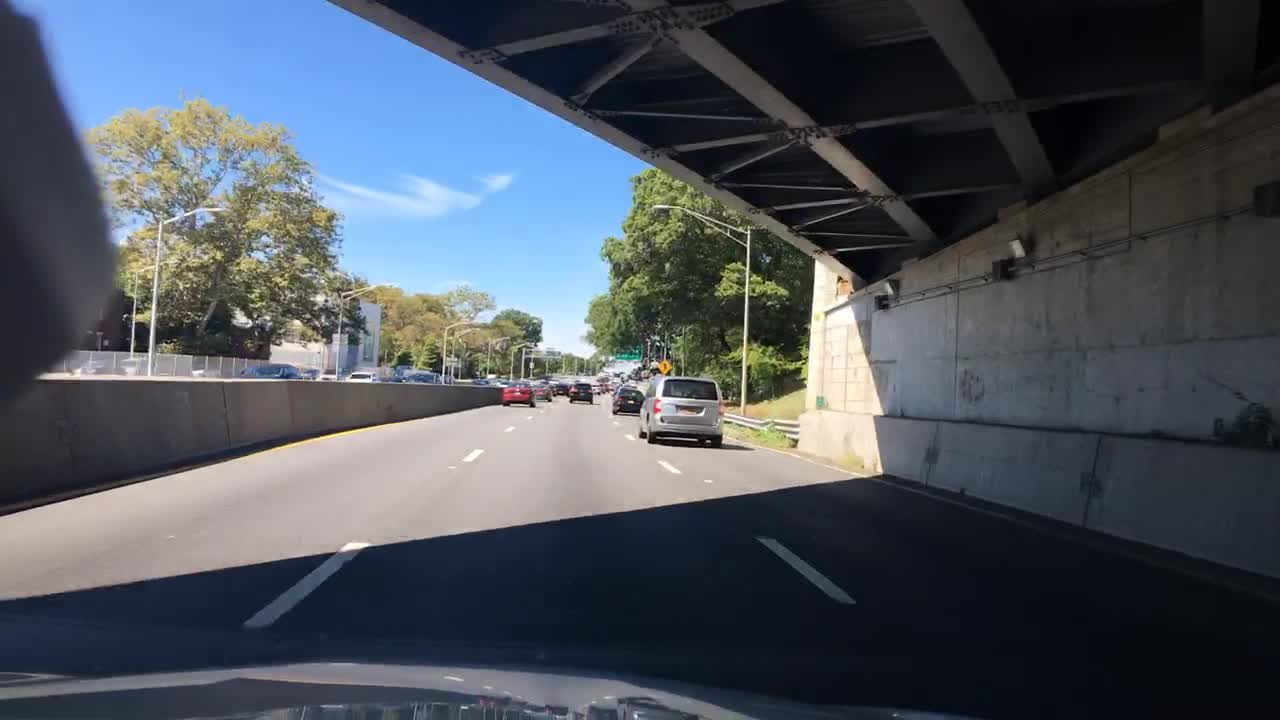car: (635, 377, 724, 447), (230, 360, 299, 381), (612, 385, 644, 417), (117, 355, 156, 381), (74, 355, 124, 374), (500, 384, 535, 408), (402, 369, 442, 388), (564, 380, 594, 405), (525, 380, 557, 399), (345, 371, 379, 385), (376, 365, 400, 383), (549, 378, 570, 398), (316, 364, 338, 382), (489, 375, 509, 388), (589, 378, 602, 396), (470, 375, 488, 386), (606, 378, 618, 393)
traffic sign: (608, 336, 644, 362), (526, 343, 563, 357), (658, 356, 676, 373), (329, 330, 348, 341), (444, 354, 461, 365), (329, 344, 348, 351)
